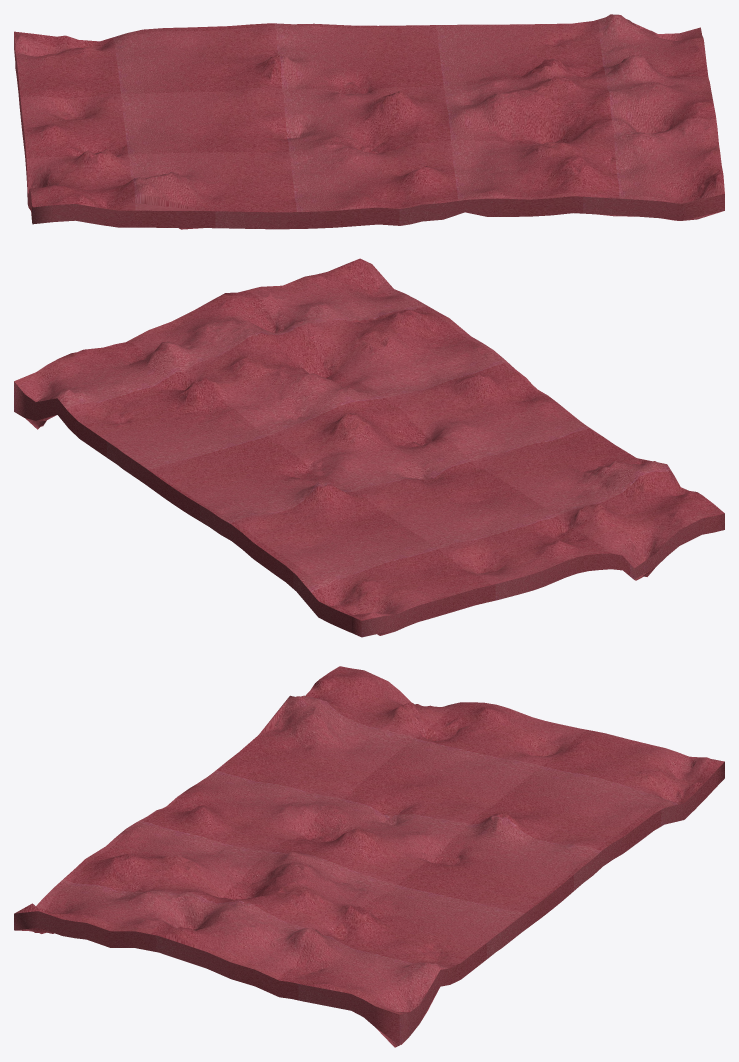
3 views of the same model, one above another, from view 1: azimuth 30°, elevation 25°; view 2: azimuth 150°, elevation 25°; view 3: azimuth 270°, elevation 25° (orthographic). The views are drawn at different scales.
Visible parts, largest first — view 1: J; view 2: J; view 3: J.
Boxes of the visible parts, bbox=[...] form: J: bbox=[14, 14, 724, 229]; J: bbox=[14, 258, 724, 637]; J: bbox=[14, 666, 724, 1047].
Bounding box in the file's own units: 11149 × 1167 × 9970.
Materials: 1 (1 with a texture image).
